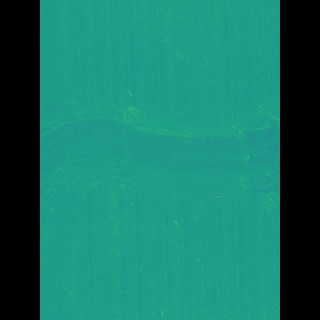Loch: (69, 92, 251, 218)
